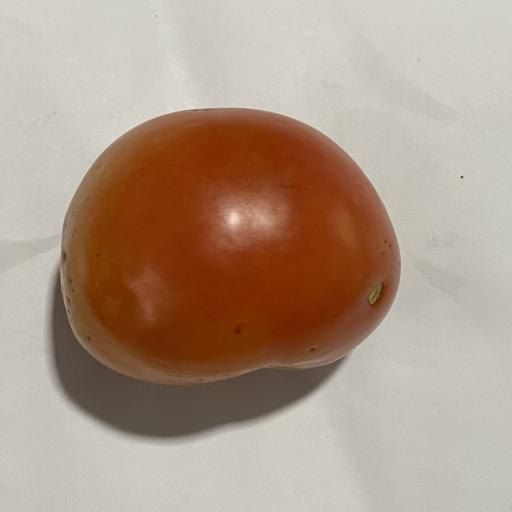ripe: (60, 108, 400, 385)
